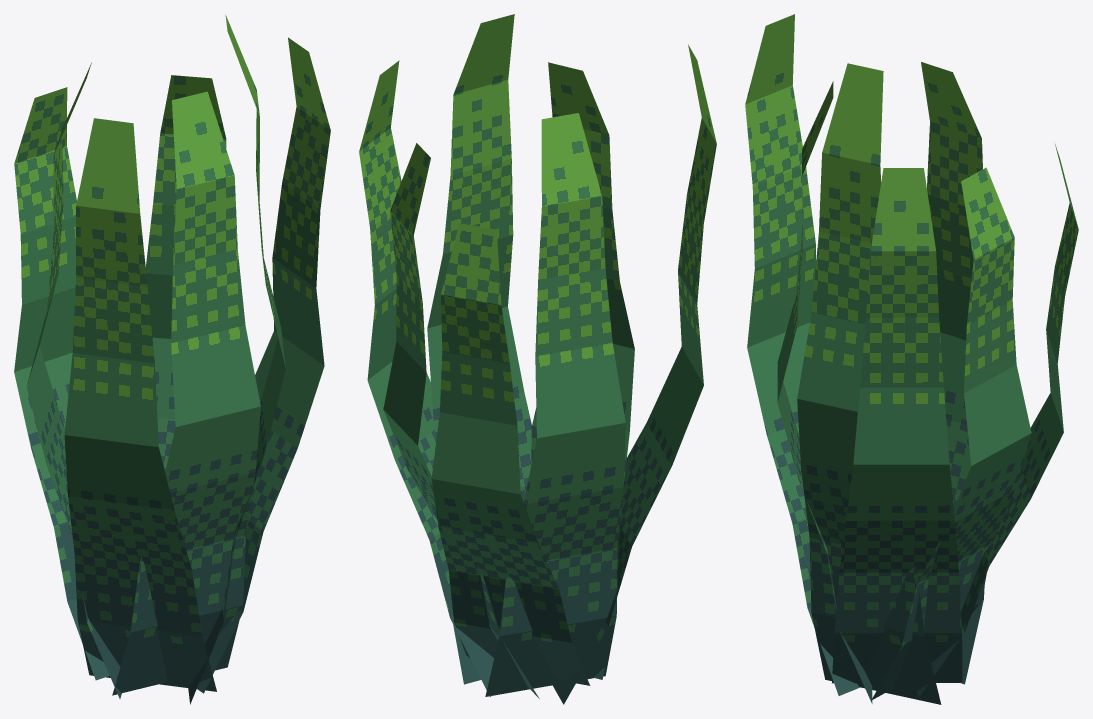
The model's file is Kelp.dae.
3 views of the same model, side by side, from view 1: azimuth 30°, elevation 25°; view 2: azimuth 150°, elevation 25°; view 3: azimuth 270°, elevation 25° (orthographic). The views are drawn at different scales.
Visible parts, largest first — view 1: Plane; view 2: Plane; view 3: Plane.
Part boxes in pixels (x1,y1,x2,y2): Plane: (14,15,330,704); Plane: (359,14,716,704); Plane: (745,14,1078,704).
Size of the model in its own units: 0.7621 by 0.7635 by 1.62.
